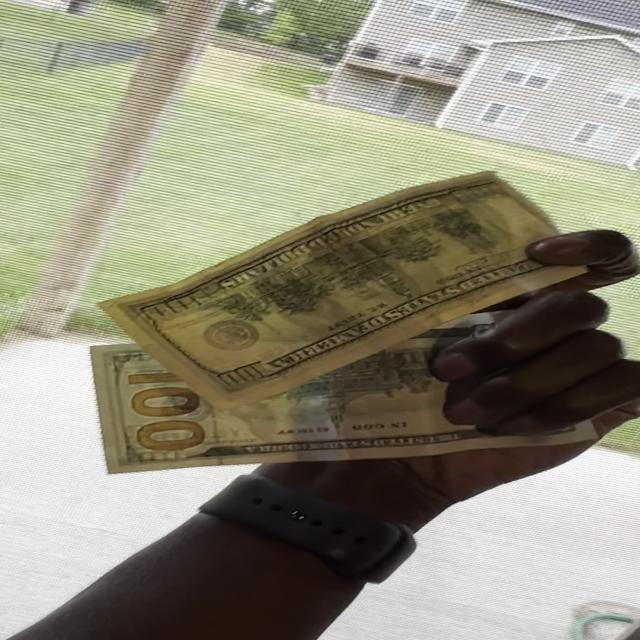hundred: (96, 171, 594, 414), (90, 310, 598, 475)
